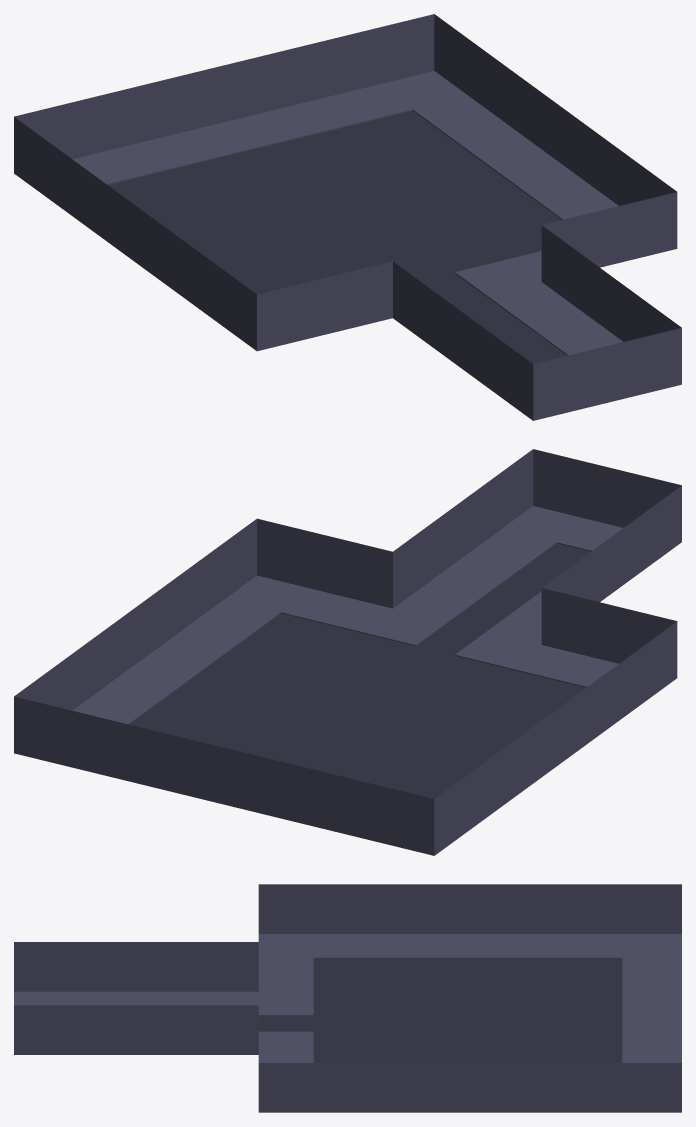
The model's file is GroundLobby.fbx.
The picture shows the model from 3 angles, top to bottom: view 1: azimuth 30°, elevation 25°; view 2: azimuth 150°, elevation 25°; view 3: azimuth 270°, elevation 25°; orthographic projection. The views are drawn at different scales.
Visible parts, largest first — view 1: GroundLobby; view 2: GroundLobby; view 3: GroundLobby.
Boxes of the visible parts, <box> form: GroundLobby: <box>14,14,681,420</box>; GroundLobby: <box>14,449,681,855</box>; GroundLobby: <box>14,884,681,1112</box>.
Bounding box in the file's own units: 82.41 × 10.87 × 130.
